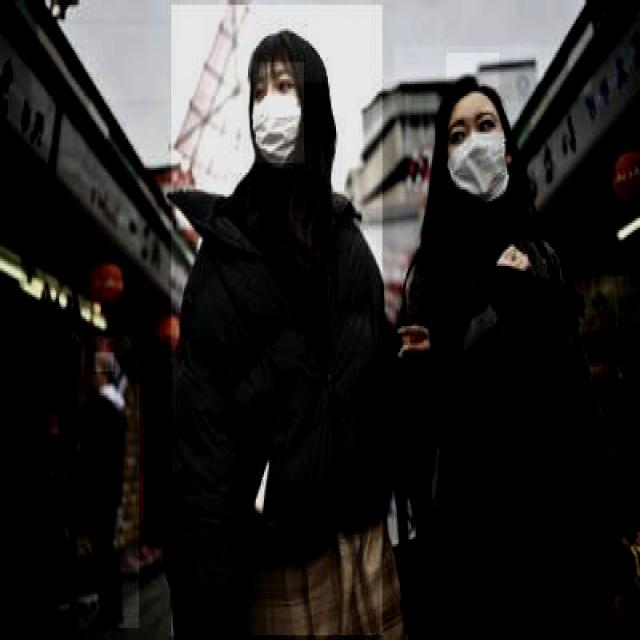face_mask: (445, 100, 510, 196), (251, 62, 304, 166)
hand_noglove: (397, 319, 435, 367)
head_nohelmet: (250, 14, 328, 84), (445, 53, 499, 117), (95, 352, 114, 372)
person: (170, 5, 382, 638), (392, 46, 626, 590), (75, 336, 139, 630)
